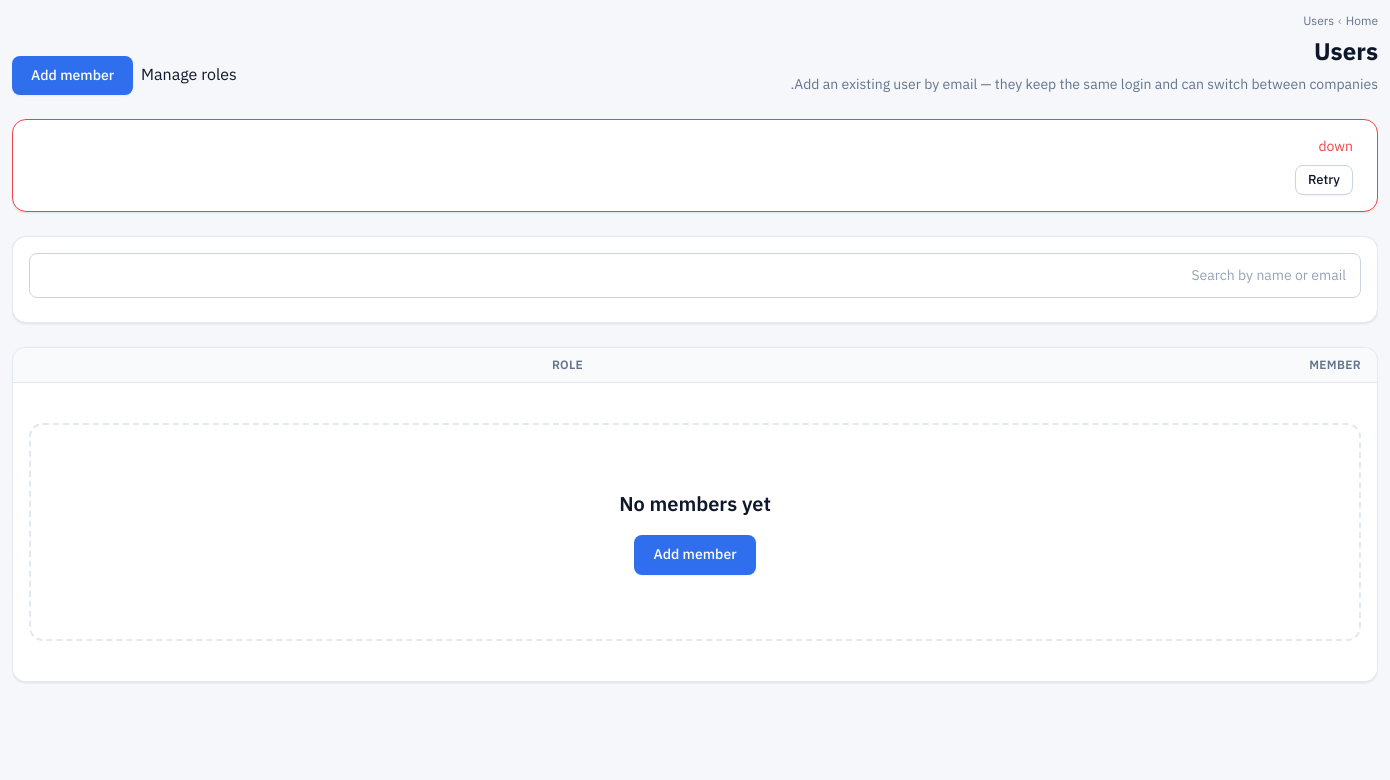
users page › retries a failed members load
Expected: the message shows "down", [1318,136,1353,157]
Click the button "Retry".
click(1324, 180)  # box [1295,165,1353,195]
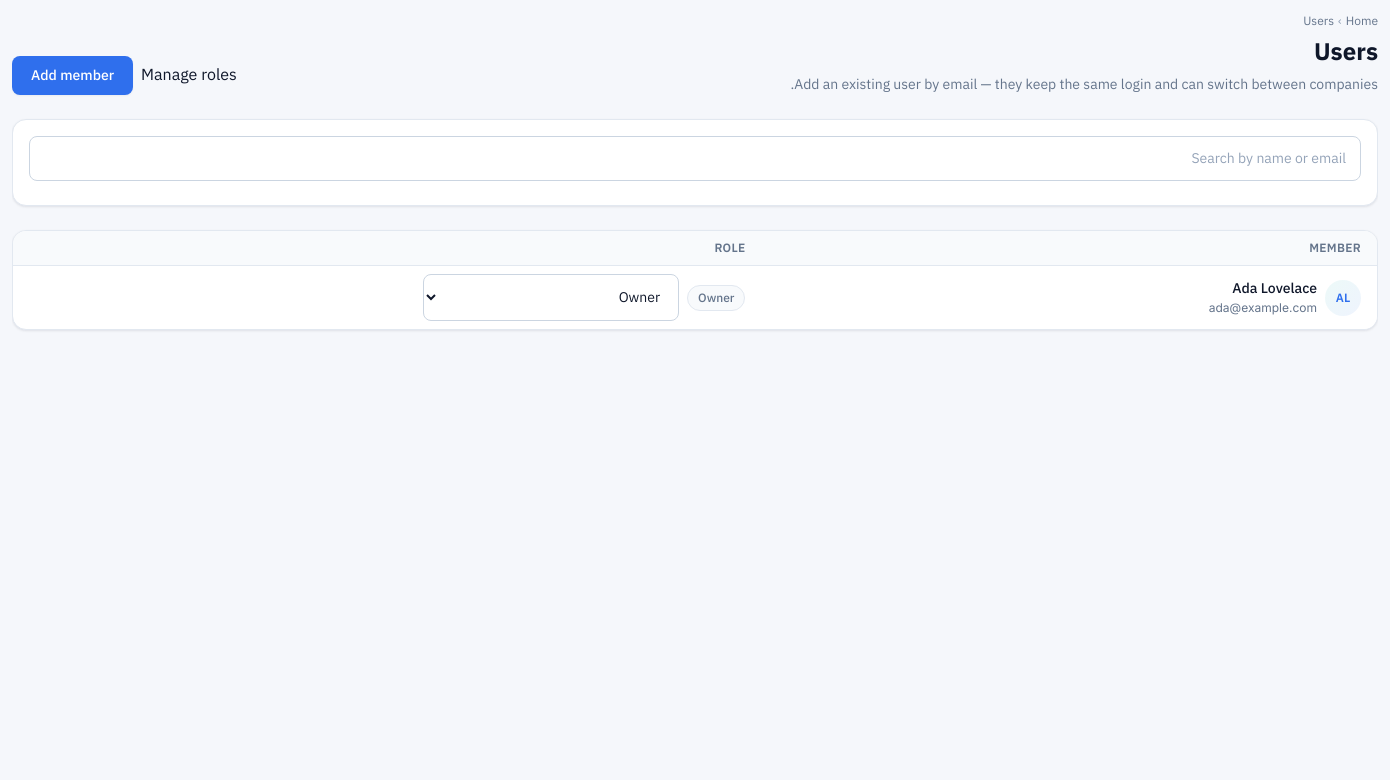
Result: the text "ada@example.com" is shown at [1209,299,1317,317]
